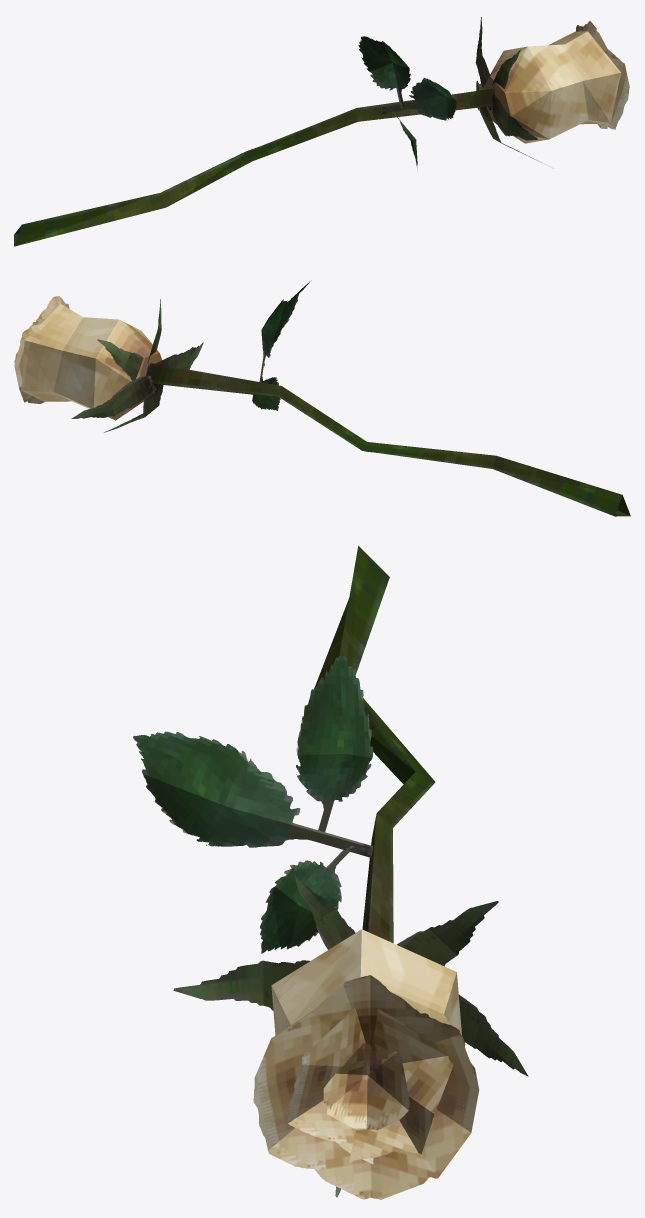
File: common_righthanditem_19907.obj
3 views of the same model, one above another, from view 1: azimuth 30°, elevation 25°; view 2: azimuth 150°, elevation 25°; view 3: azimuth 270°, elevation 25° (orthographic). The views are drawn at different scales.
Visible parts, largest first — view 1: common_righthandItem_19907; view 2: common_righthandItem_19907; view 3: common_righthandItem_19907.
Boxes of the visible parts, bbox=[...] form: common_righthandItem_19907: bbox=[14, 17, 629, 246]; common_righthandItem_19907: bbox=[14, 280, 630, 516]; common_righthandItem_19907: bbox=[133, 546, 528, 1199].
Bounding box in the file's own units: 21.33 × 6.3 × 6.38.
Materials: 2 (2 with a texture image).
